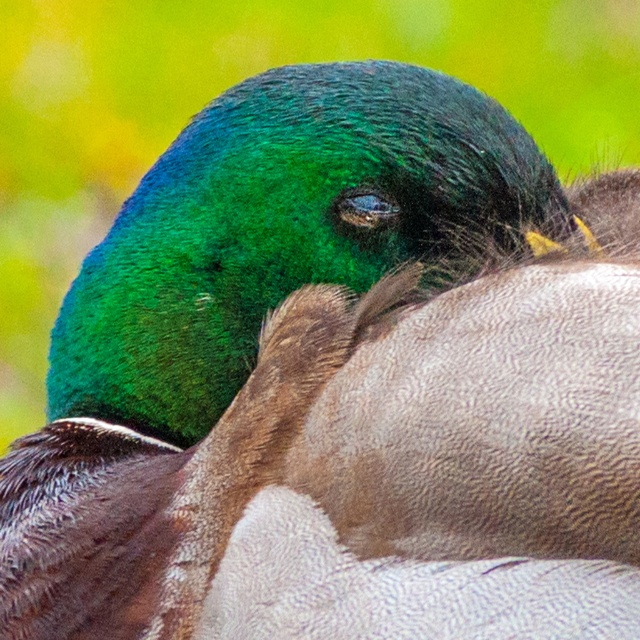Duck: (3, 55, 629, 638)
